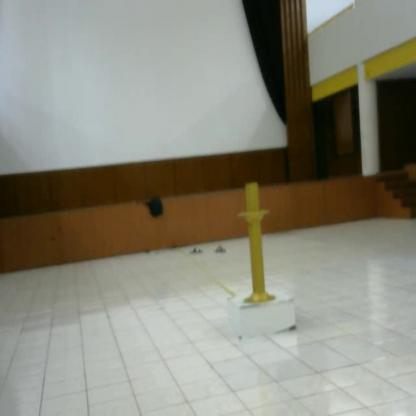pole: (235, 177, 283, 311)
